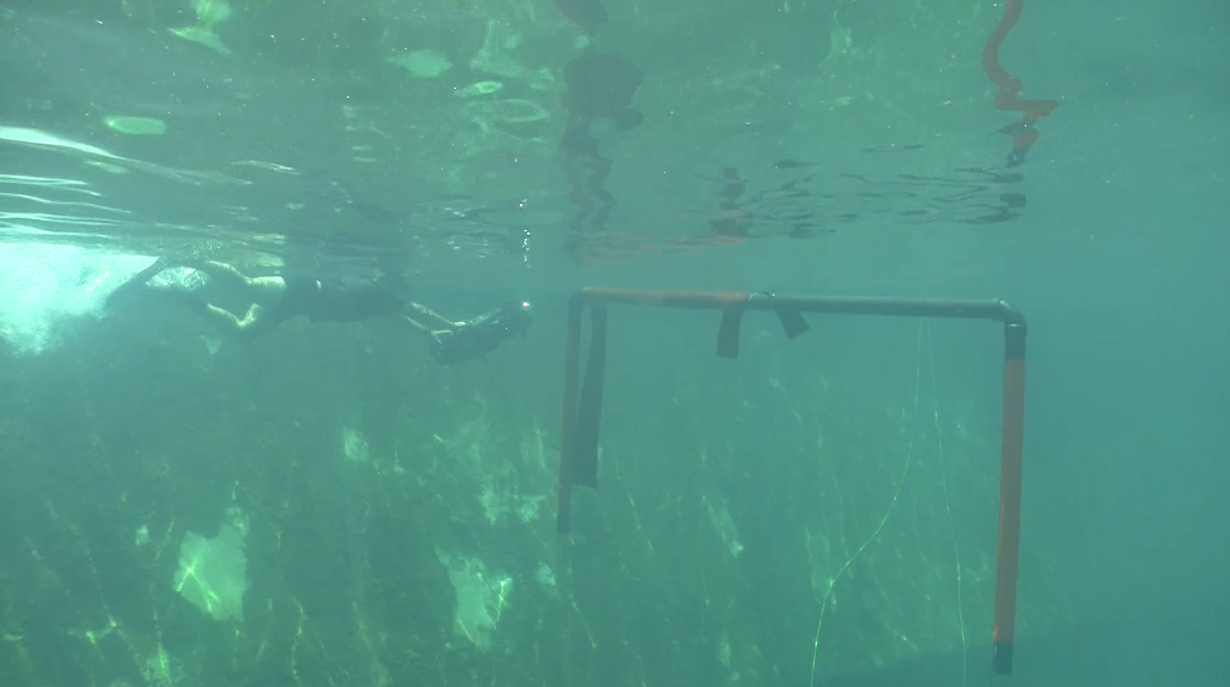gate: (549, 284, 1036, 671)
